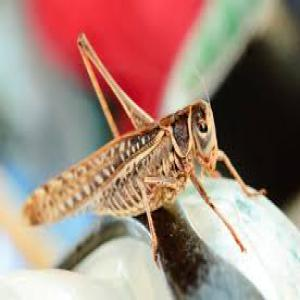locust: (6, 72, 219, 221)
